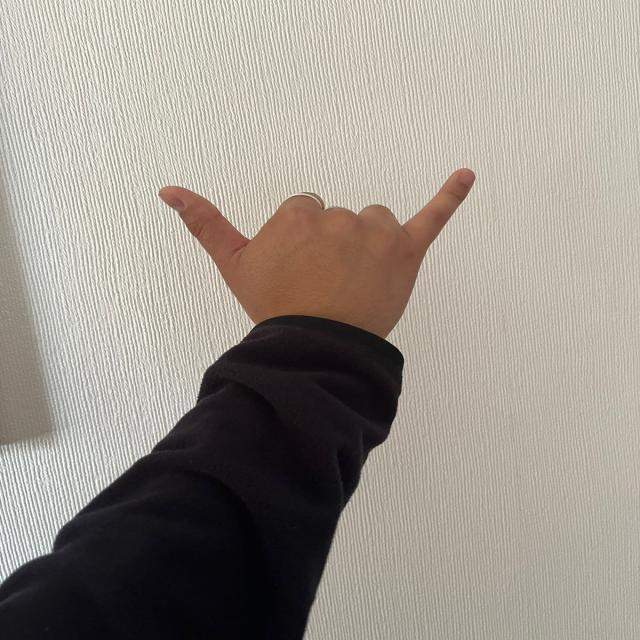Y: (156, 156, 483, 359)
